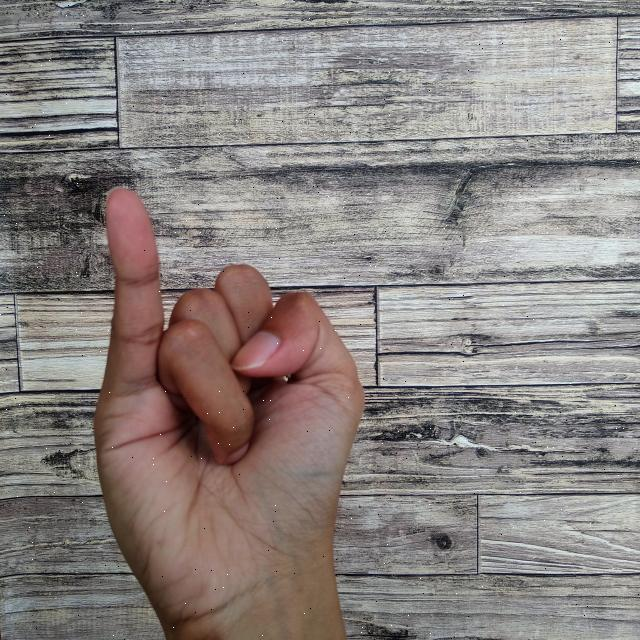I: (92, 181, 370, 640)
